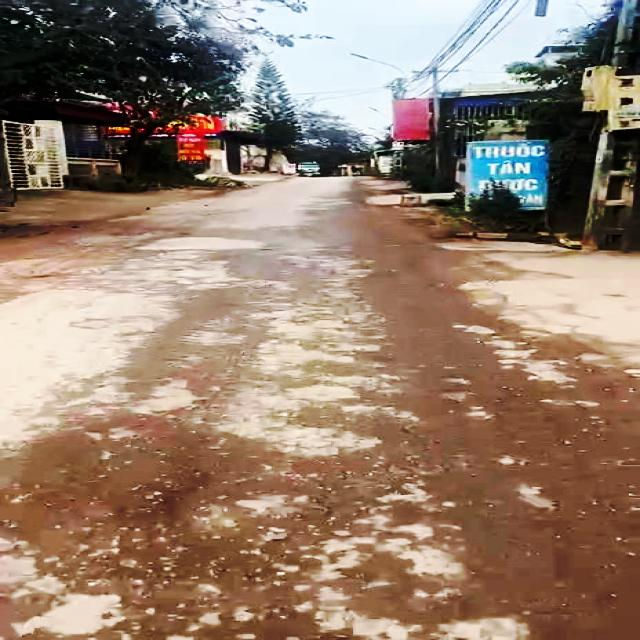pothole: (0, 409, 399, 640)
